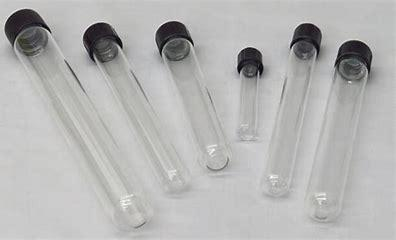Test tube: (8, 9, 373, 227)
